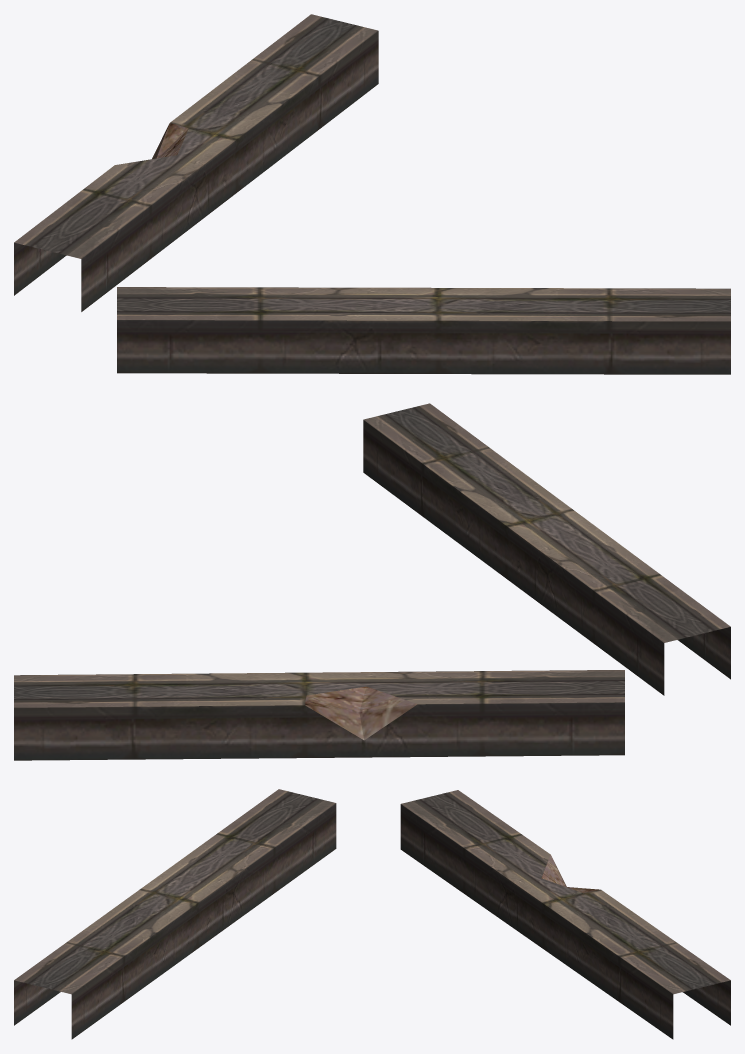
Rendered from ganzi.FBX.
3 views of the same model, one above another, from view 1: azimuth 30°, elevation 25°; view 2: azimuth 150°, elevation 25°; view 3: azimuth 270°, elevation 25° (orthographic). The views are drawn at different scales.
Visible parts, largest first — view 1: ganzi; view 2: ganzi; view 3: ganzi.
Boxes of the visible parts, bbox=[...] form: ganzi: bbox=[14, 14, 730, 374]; ganzi: bbox=[14, 403, 730, 760]; ganzi: bbox=[14, 789, 730, 1039].
Bounding box in the file's own units: 1647 × 170 × 2430.
